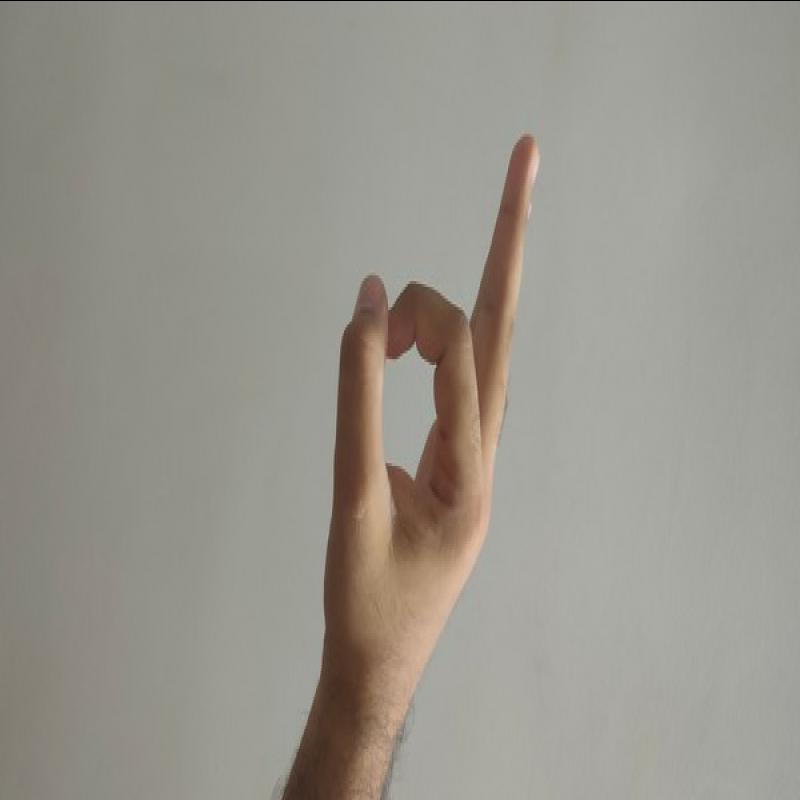Mudraakhyam: (287, 124, 557, 676)
